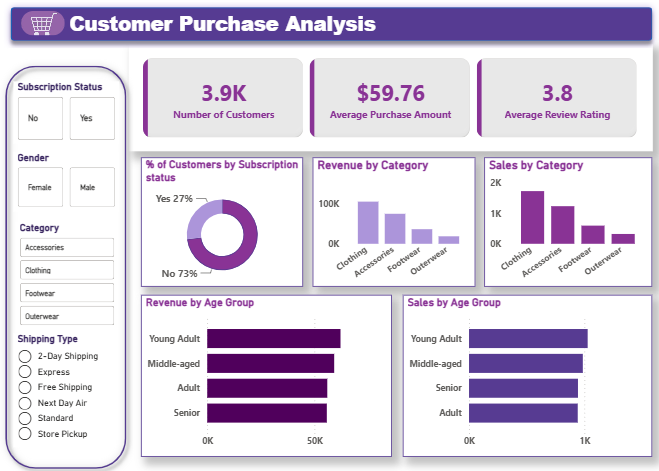

The page's visual inventory and layout, read from the dashboard file:
{"tool":"powerbi","page":{"name":"Page 1","canvas":[820,600],"ordinal":0},"visuals":[{"type":"cardVisual","fields":{"Data":["customer_behavior customer.Number of Customers","customer_behavior customer.Average Purchase Amount","customer_behavior customer.Average Review Rating"]},"box":[161,54.4,643.3,132.2],"z":0},{"type":"shape","box":[7,0,806,59],"z":1000},{"type":"textbox","box":[82.2,6.7,552.2,47.8],"z":2000},{"type":"donutChart","title":"% of Customers by Subscription status","fields":{"Category":["customer_behavior customer.subscription_status"],"Y":["CountNonNull(customer_behavior customer.customer_id)"]},"box":[175.6,193.3,198.9,158.9],"z":3000},{"type":"clusteredColumnChart","title":"Revenue by Category","fields":{"Category":["customer_behavior customer.category"],"Y":["Sum(customer_behavior customer.purchase_amount)"]},"box":[386.7,193.3,200,158.9],"z":4000},{"type":"clusteredColumnChart","title":"Sales by Category","fields":{"Category":["customer_behavior customer.category"],"Y":["CountNonNull(customer_behavior customer.customer_id)"]},"box":[597.8,193.3,206.7,158.9],"z":5000},{"type":"shape","box":[0,71.1,166.7,513.3],"z":6000},{"type":"advancedSlicerVisual","title":"Subscription Status","fields":{"Values":["customer_behavior customer.subscription_status"]},"box":[18.9,100,130,76.7],"z":6001},{"type":"advancedSlicerVisual","title":"Gender","fields":{"Values":["customer_behavior customer.gender"]},"box":[18.9,186.7,130,73.3],"z":6002},{"type":"advancedSlicerVisual","title":"Category","fields":{"Values":["customer_behavior customer.category"]},"box":[21.1,273.3,126.7,135.6],"z":6003},{"type":"listSlicer","title":"Shipping Type","fields":{"Values":["customer_behavior customer.shipping_type"]},"box":[18.9,408.9,125.6,140],"z":6004},{"type":"clusteredBarChart","title":"Revenue by Age Group","fields":{"Category":["customer_behavior customer.age_group"],"Y":["Sum(customer_behavior customer.purchase_amount)"]},"box":[175.6,362.2,307.8,198.9],"z":6005},{"type":"clusteredBarChart","title":"Sales by Age Group","fields":{"Category":["customer_behavior customer.age_group"],"Y":["CountNonNull(customer_behavior customer.customer_id)"]},"box":[497.8,362.2,306.7,198.9],"z":6006},{"type":"image","box":[28.9,13.3,53.3,30],"z":6008}]}

Visuals, with their boxes in screenshot pixels (x1, y1, x2, y2), scaled from the page's 820x600 canvas onto the 659x471 screenshot:
cardVisual - customer_behavior customer.Number of Customers x customer_behavior customer.Average Purchase Amount: <bbox>129, 43, 646, 146</bbox>
shape: <bbox>6, 0, 653, 46</bbox>
textbox: <bbox>66, 5, 510, 43</bbox>
"% of Customers by Subscription status" donutChart: <bbox>141, 152, 301, 276</bbox>
"Revenue by Category" clusteredColumnChart: <bbox>311, 152, 472, 276</bbox>
"Sales by Category" clusteredColumnChart: <bbox>480, 152, 647, 276</bbox>
shape: <bbox>0, 56, 134, 459</bbox>
"Subscription Status" advancedSlicerVisual: <bbox>15, 78, 120, 139</bbox>
"Gender" advancedSlicerVisual: <bbox>15, 147, 120, 204</bbox>
"Category" advancedSlicerVisual: <bbox>17, 215, 119, 321</bbox>
"Shipping Type" listSlicer: <bbox>15, 321, 116, 431</bbox>
"Revenue by Age Group" clusteredBarChart: <bbox>141, 284, 388, 440</bbox>
"Sales by Age Group" clusteredBarChart: <bbox>400, 284, 647, 440</bbox>
image: <bbox>23, 10, 66, 34</bbox>
